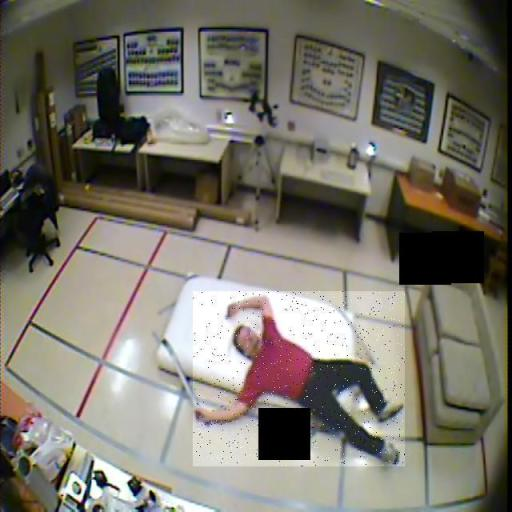Fall: (193, 292, 405, 467)
